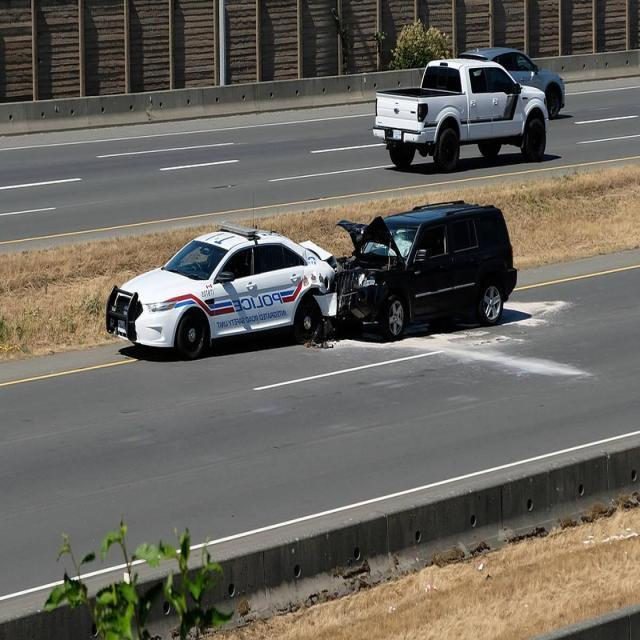multiple_accident: (216, 171, 431, 366)
